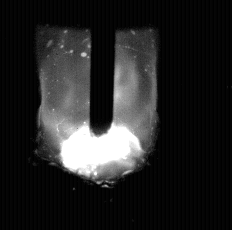arame: (91, 0, 114, 138)
poca: (43, 0, 155, 230)
